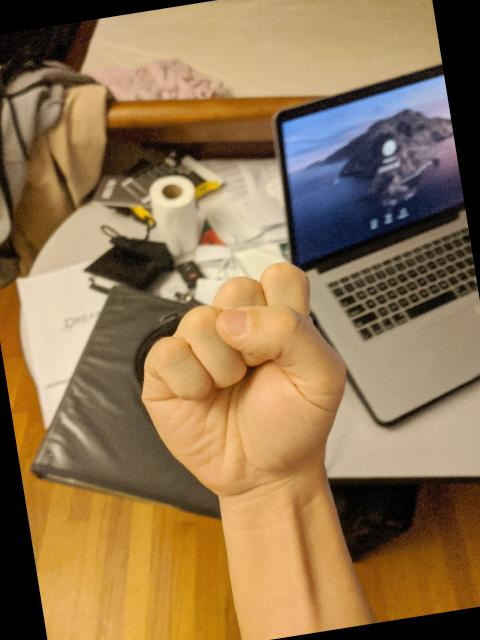S: (118, 249, 370, 515)
